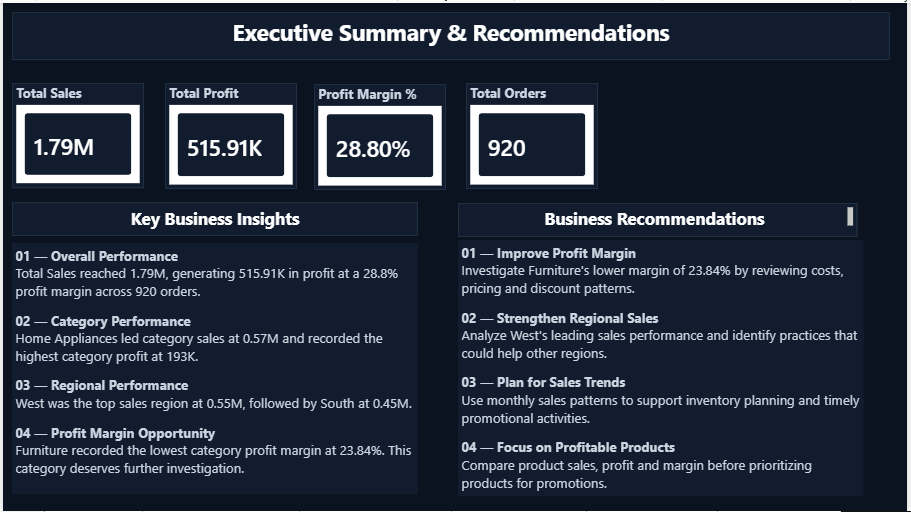

This screenshot's page, from the dashboard's own definition file:
{"tool":"powerbi","page":{"name":"Executive Summary","canvas":[1280,720],"ordinal":6},"visuals":[{"type":"textbox","box":[12.8,12.8,1244.4,68],"z":0},{"type":"cardVisual","title":"Total Sales","fields":{"Data":["ALL_DAX.Total Sales"]},"box":[12.8,113.4,187.1,148.8],"z":1000},{"type":"cardVisual","title":"Total Profit","fields":{"Data":["ALL_DAX.Total Profit"]},"box":[229.6,113.4,187.1,150.2],"z":2000},{"type":"cardVisual","title":"Profit Margin %","fields":{"Data":["ALL_DAX.Profit Margin %"]},"box":[440.8,114.8,187.1,150.2],"z":3000},{"type":"cardVisual","title":"Total Orders","fields":{"Data":["ALL_DAX.Total Order"]},"box":[656.2,113.4,187.1,150.2],"z":4000},{"type":"textbox","box":[12.8,282,575.4,48.2],"z":5000},{"type":"textbox","box":[12.8,340.2,575.4,355.7],"z":6000},{"type":"textbox","box":[644.9,283.5,565.5,48.2],"z":7000},{"type":"textbox","box":[644.9,335.9,575.4,362.8],"z":8000}]}

Visuals, with their boxes in screenshot pixels (x1, y1, x2, y2), scaled from the page's 1280x720 canvas onto the 911x512 screenshot:
textbox: {"x1": 9, "y1": 9, "x2": 895, "y2": 57}
"Total Sales" cardVisual: {"x1": 9, "y1": 81, "x2": 142, "y2": 186}
"Total Profit" cardVisual: {"x1": 163, "y1": 81, "x2": 297, "y2": 187}
"Profit Margin %" cardVisual: {"x1": 314, "y1": 82, "x2": 447, "y2": 188}
"Total Orders" cardVisual: {"x1": 467, "y1": 81, "x2": 600, "y2": 187}
textbox: {"x1": 9, "y1": 201, "x2": 419, "y2": 235}
textbox: {"x1": 9, "y1": 242, "x2": 419, "y2": 495}
textbox: {"x1": 459, "y1": 202, "x2": 861, "y2": 236}
textbox: {"x1": 459, "y1": 239, "x2": 869, "y2": 497}
